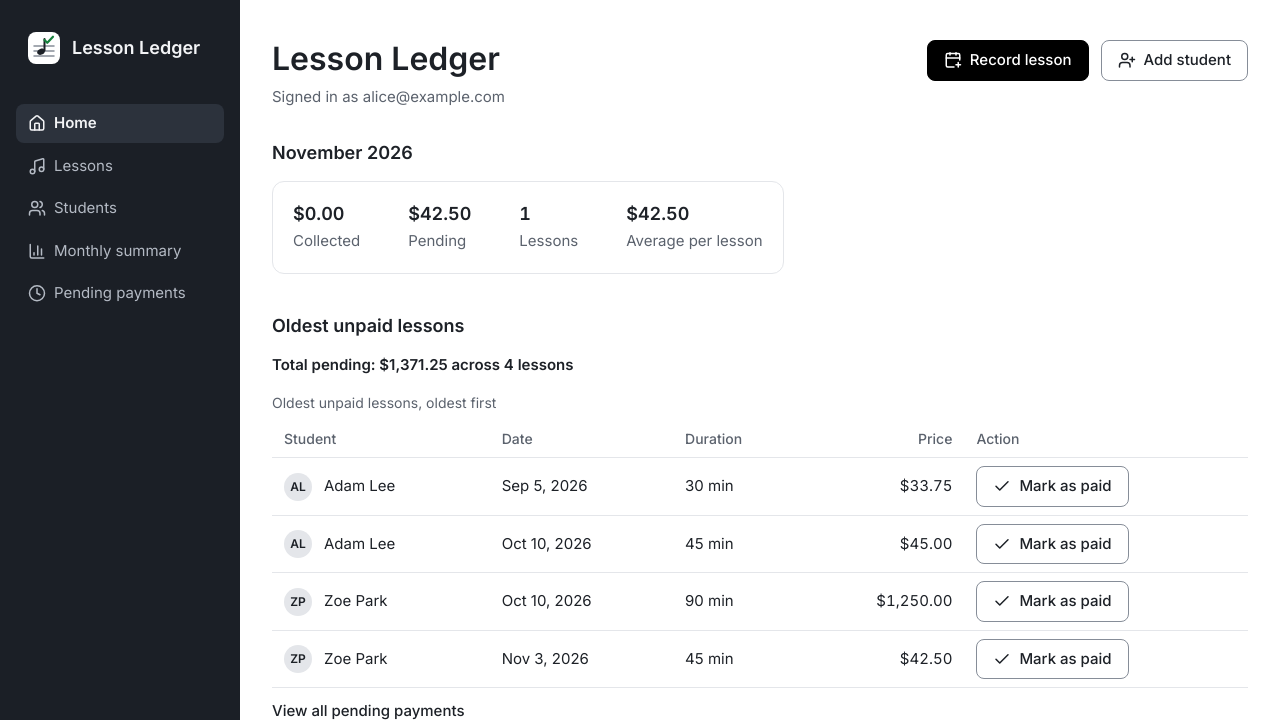
it: F07 AC-3 mark as paid on Home › AC-3b marking removes the row, updates the total, announces it and focuses the next row; figures stay (AC-3c)
Expected: the text "Signed in as alice@example.com" is shown, [272, 86, 505, 109]
Expected: the table "Oldest unpaid lessons, oldest first" is shown, [272, 393, 1248, 688]
Click the 2nd button "Mark as paid" at (1052, 544), box [976, 524, 1129, 564]
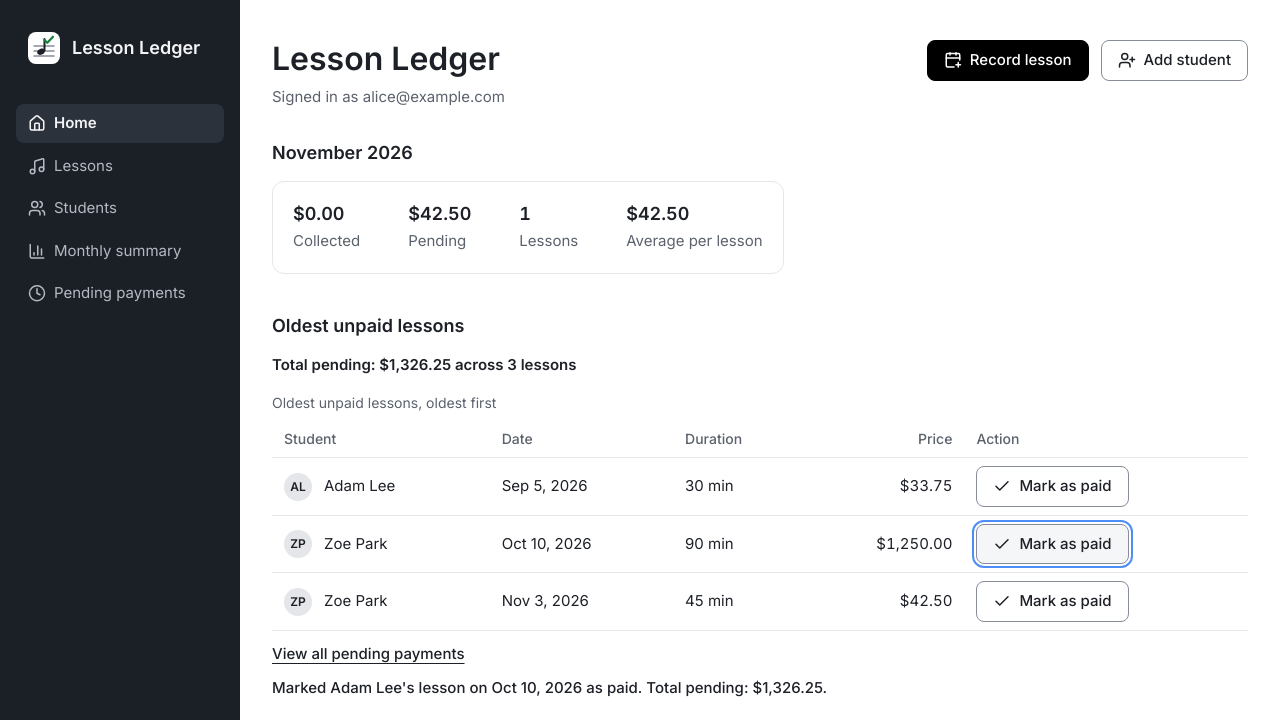
Result: the text "Total pending: $1,326.25 across 3 lessons" is shown at [272, 355, 576, 374]
Result: the message reads "Marked Adam Lee's lesson on Oct 10, 2026 as paid. Total pending: $1,326.25." at [272, 678, 827, 697]
